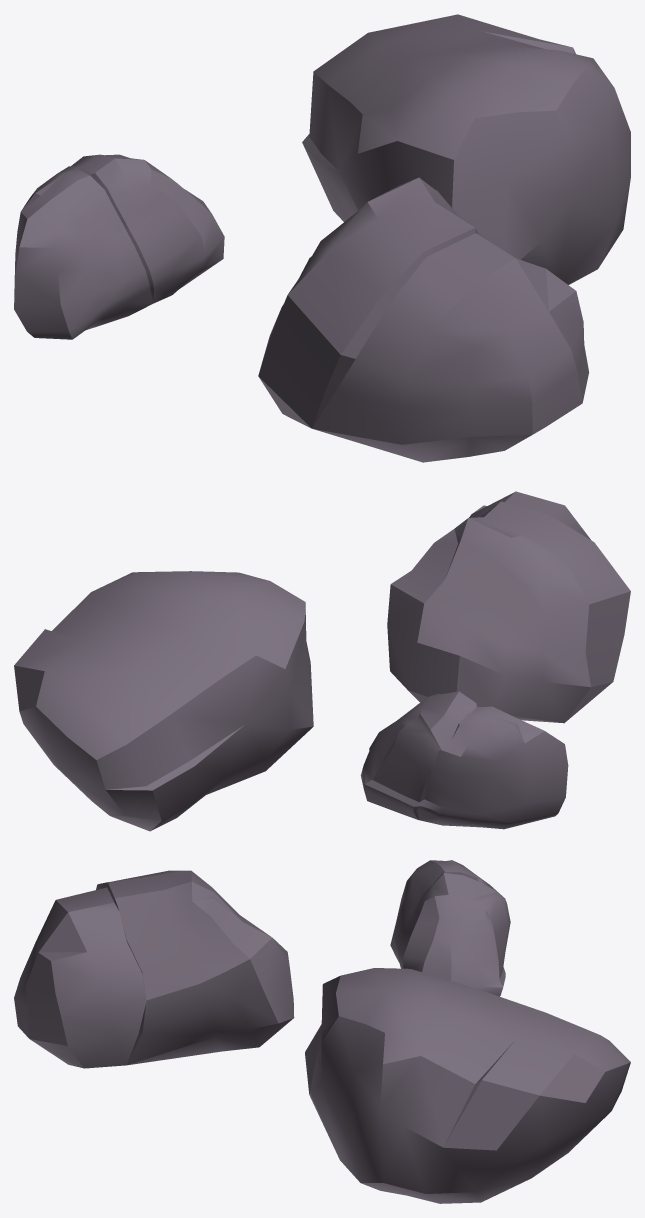
File: P_stone_09_LD.fbx
3 views of the same model, one above another, from view 1: azimuth 30°, elevation 25°; view 2: azimuth 150°, elevation 25°; view 3: azimuth 270°, elevation 25° (orthographic). The views are drawn at different scales.
Parts seen in each view (by area): view 1: P_stone_09; view 2: P_stone_09; view 3: P_stone_09.
Boxes of the visible parts, x1,y1,x2,y2 form: P_stone_09: (14,14,630,462); P_stone_09: (14,491,630,831); P_stone_09: (14,860,630,1203).
Size of the model in its own units: 302 by 132 by 328.
Materials: 1 (1 with a texture image).
